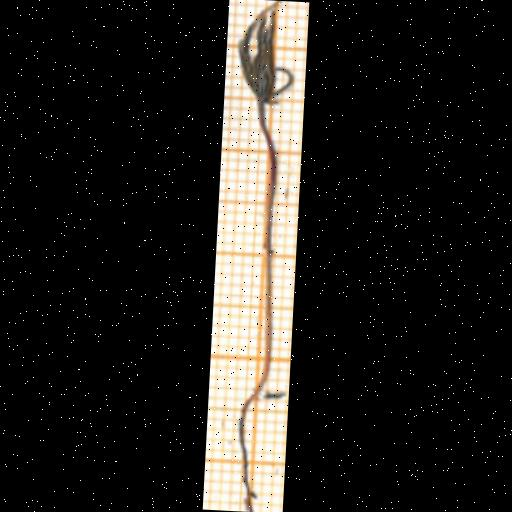flowerPinus: (238, 4, 293, 103)
rootPinus: (238, 393, 258, 512)
stemPinus: (256, 101, 277, 393)
